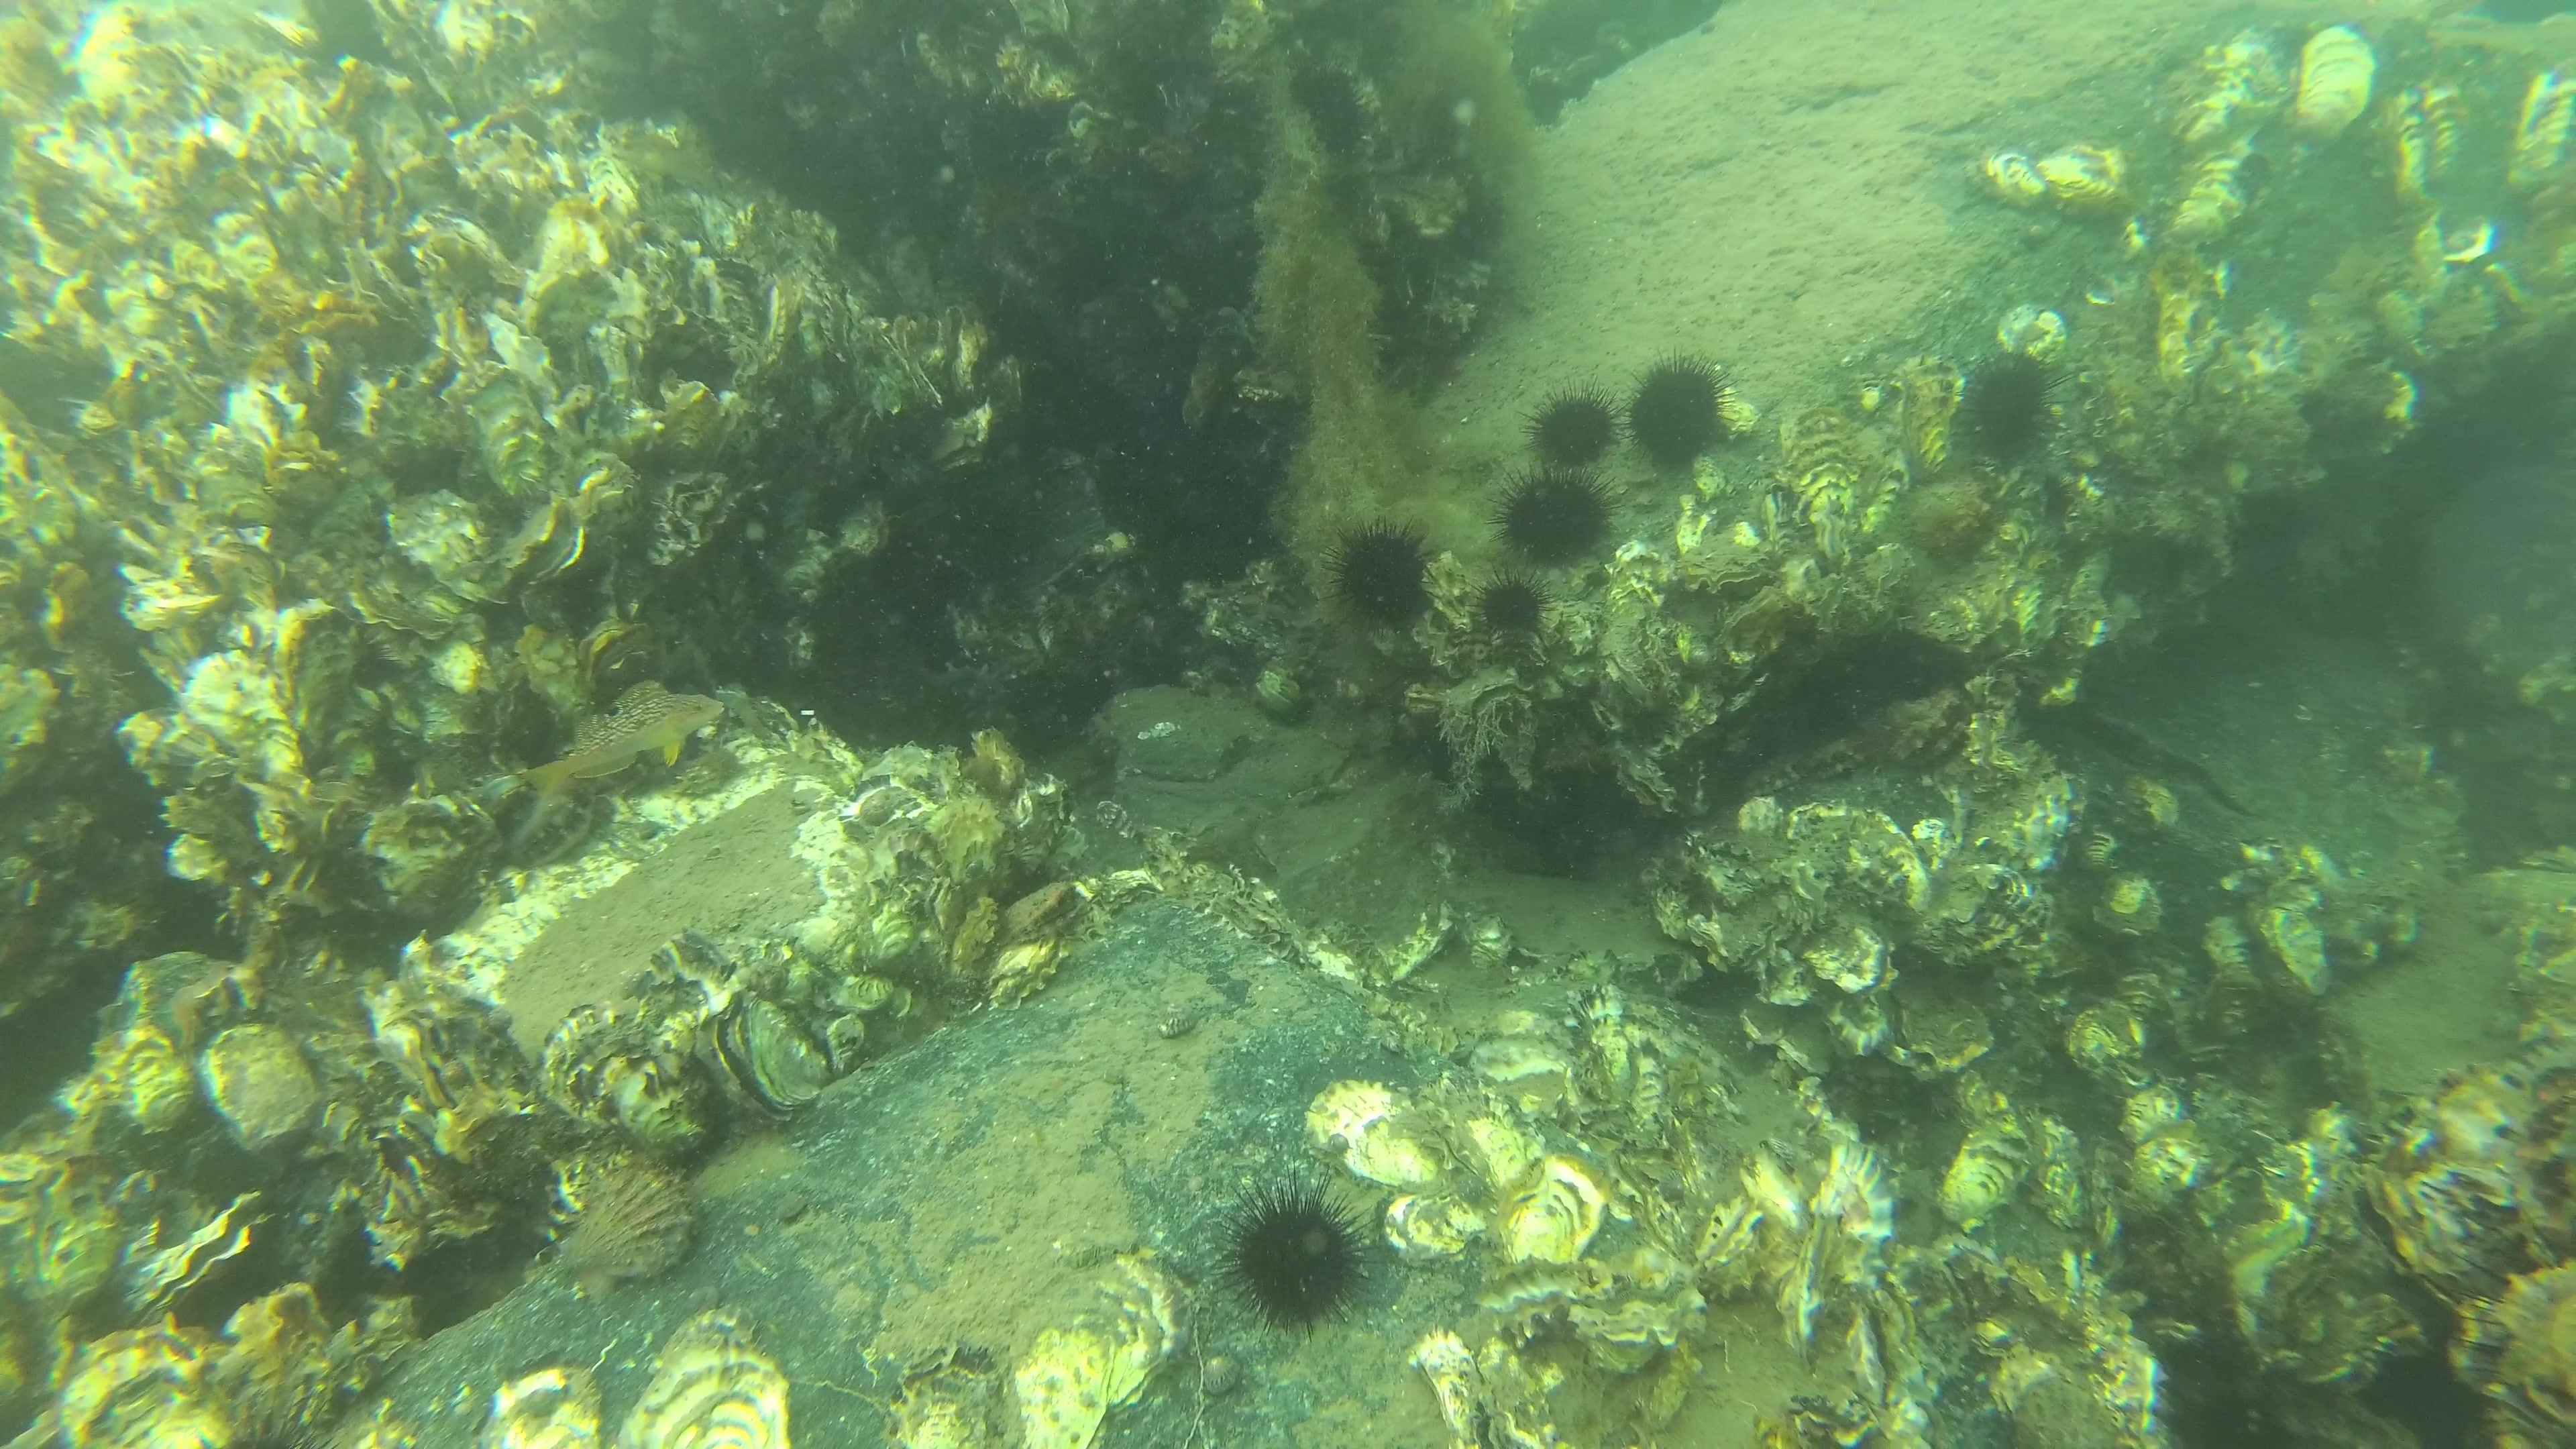echinus: (1226, 1166, 1378, 1345), (1621, 345, 1736, 483), (1316, 513, 1445, 630), (1495, 460, 1624, 575), (1944, 356, 2074, 460), (1522, 380, 1629, 465), (1476, 566, 1553, 642)
scallop: (547, 1155, 699, 1299), (1005, 879, 1092, 948)
